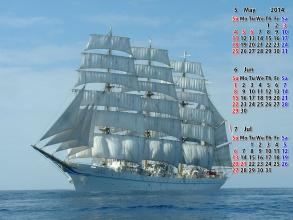fanchuan: (30, 31, 227, 191)
